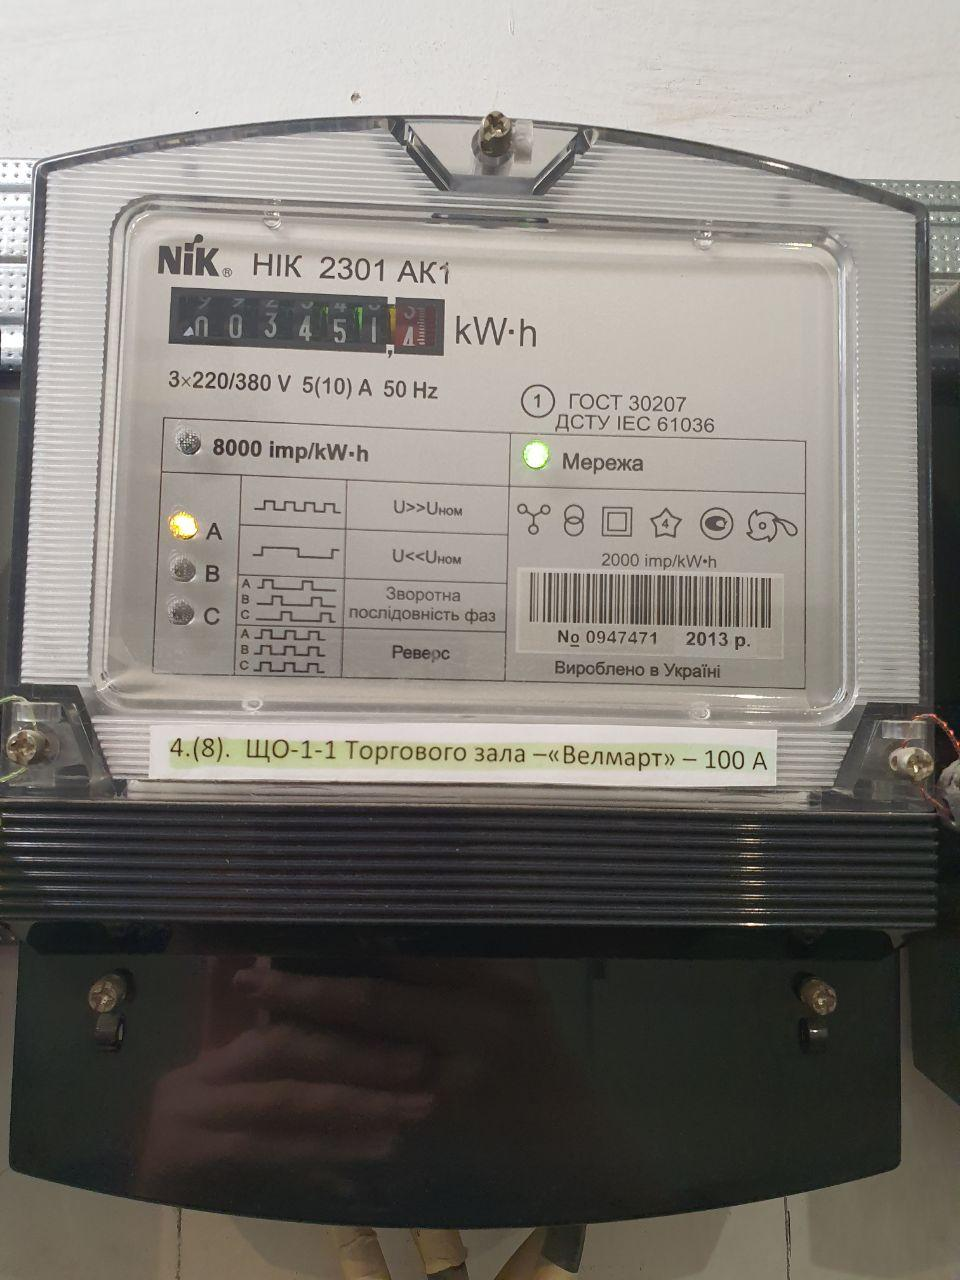0: (191, 312, 211, 339), (226, 312, 245, 340)
1: (366, 314, 382, 345)
3: (261, 309, 280, 340)
4: (295, 313, 315, 345), (398, 323, 418, 351)
5: (331, 315, 348, 346)
screen: (162, 282, 451, 364)
